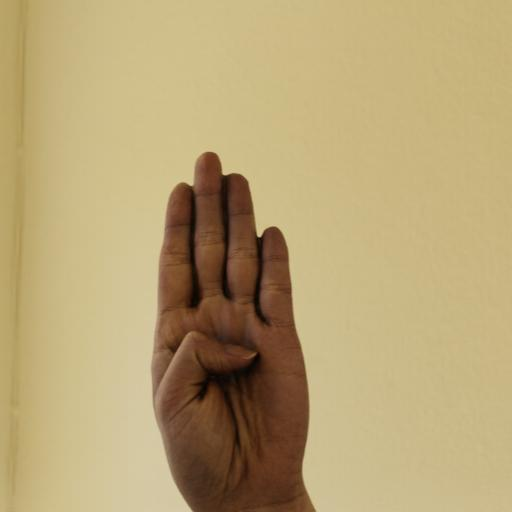B: (139, 143, 326, 512)
